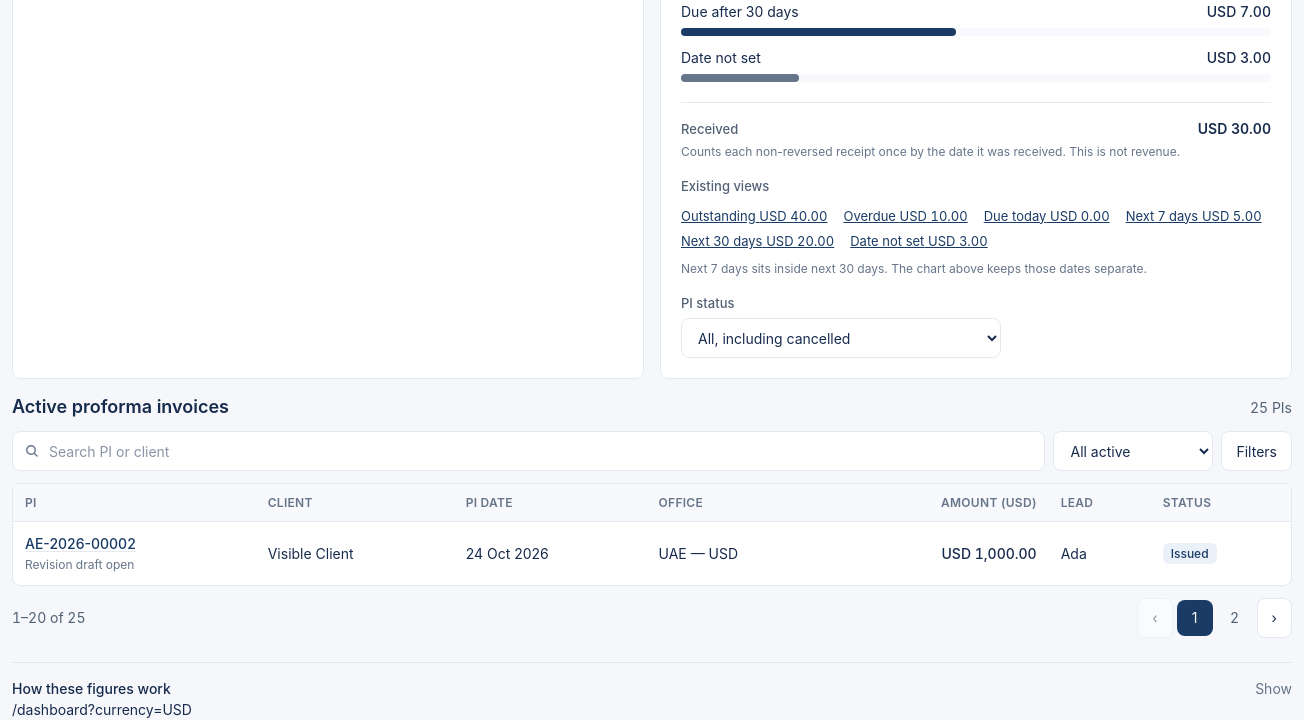
Test: dashboard currency, filters, and figures › shows full-population totals and status counts rather than the current page
The image size is (1304, 720).
(page scrolled)
Click the button "2": (1235, 618) [1217,600,1253,636]
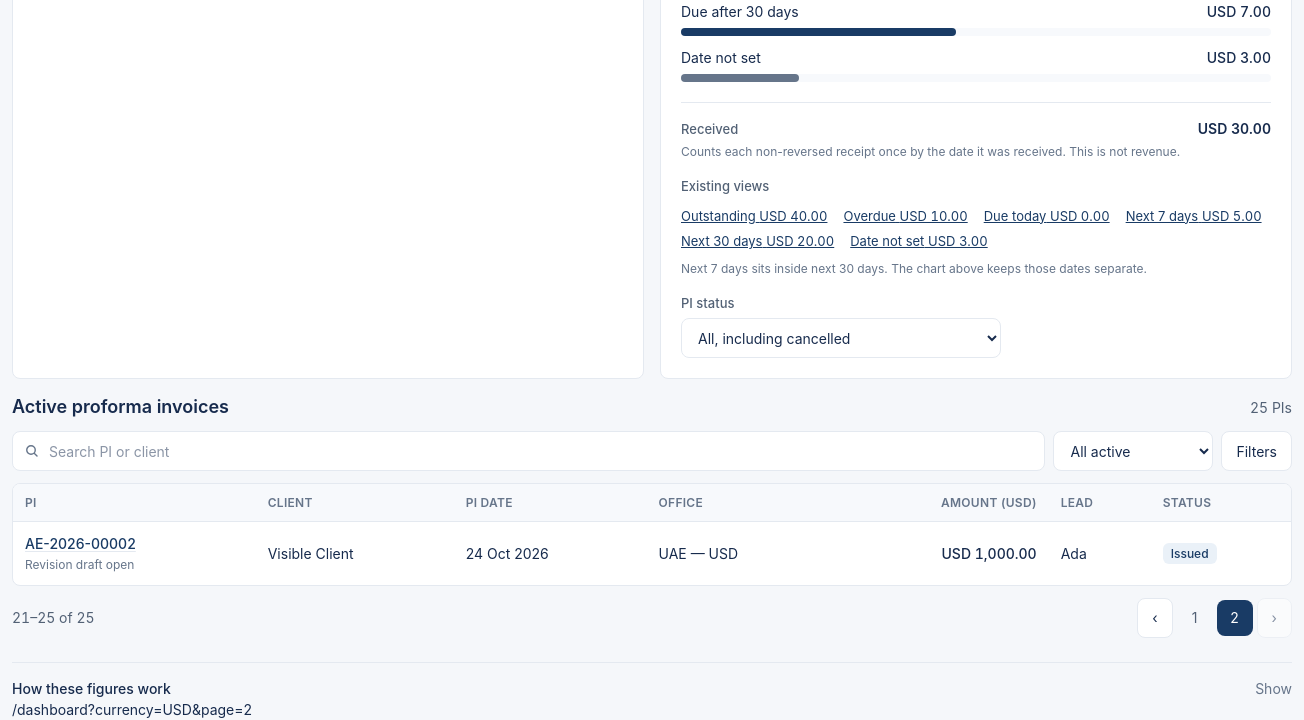
expect the text "USD 1,000.00" is shown: met, box [833,522,1049,585]
expect the text with test id "location" shows "page=2": met, box [12,701,252,718]
